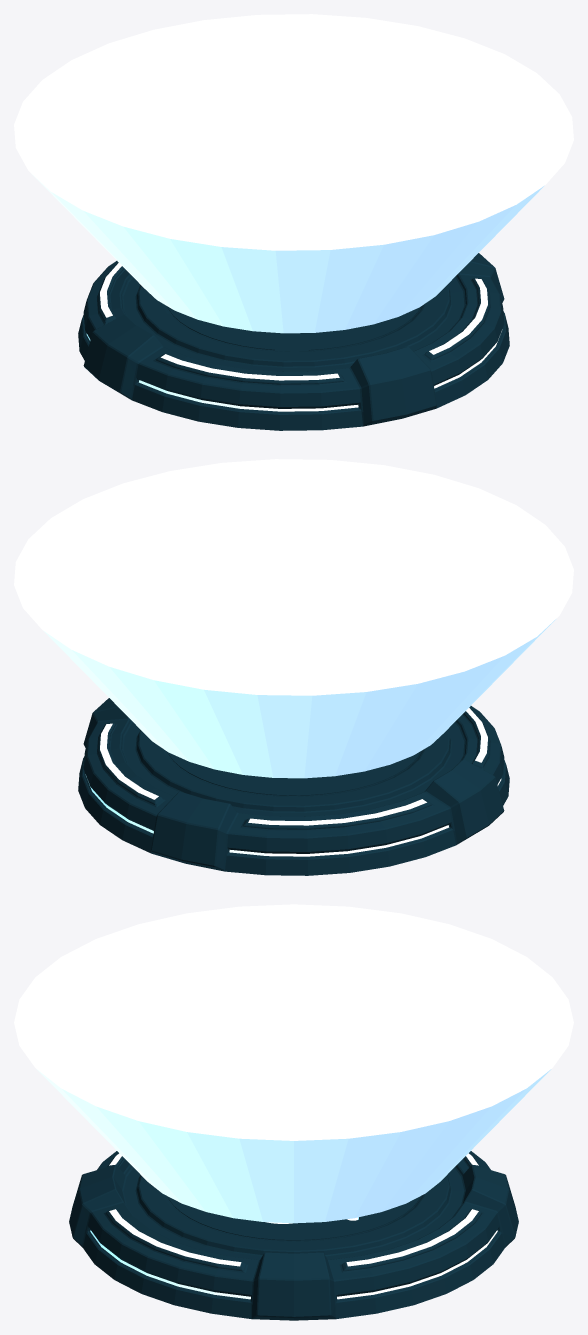
File: projectionPlatform.glb
3 views of the same model, one above another, from view 1: azimuth 30°, elevation 25°; view 2: azimuth 150°, elevation 25°; view 3: azimuth 270°, elevation 25° (orthographic).
Visible parts, largest first — view 1: projection, platform; view 2: projection, platform; view 3: projection, platform.
Boxes of the visible parts, left/top/right/bottom form: projection: left=14, top=14, right=573, bottom=333; platform: left=78, top=253, right=509, bottom=430; projection: left=14, top=459, right=573, bottom=778; platform: left=78, top=698, right=509, bottom=875; projection: left=14, top=904, right=573, bottom=1223; platform: left=69, top=1151, right=518, bottom=1320.
Bounding box in the file's own units: 1.26 × 0.516 × 1.26.
